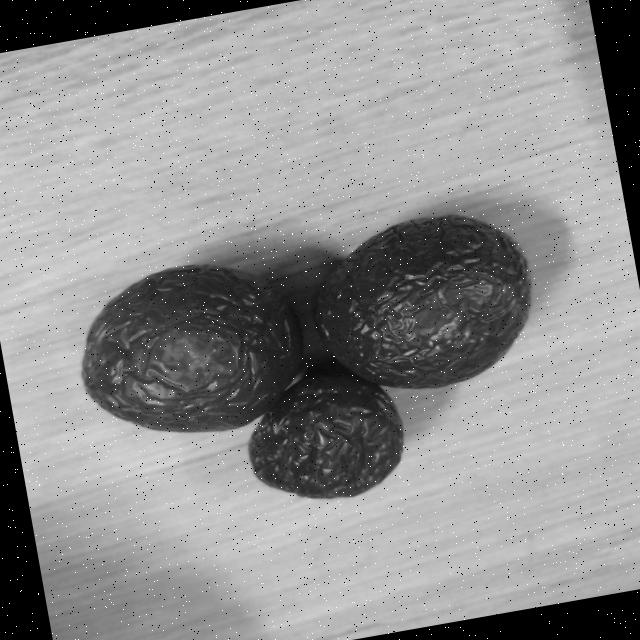overripe: (59, 244, 320, 459), (302, 197, 548, 408), (236, 394, 411, 516)
